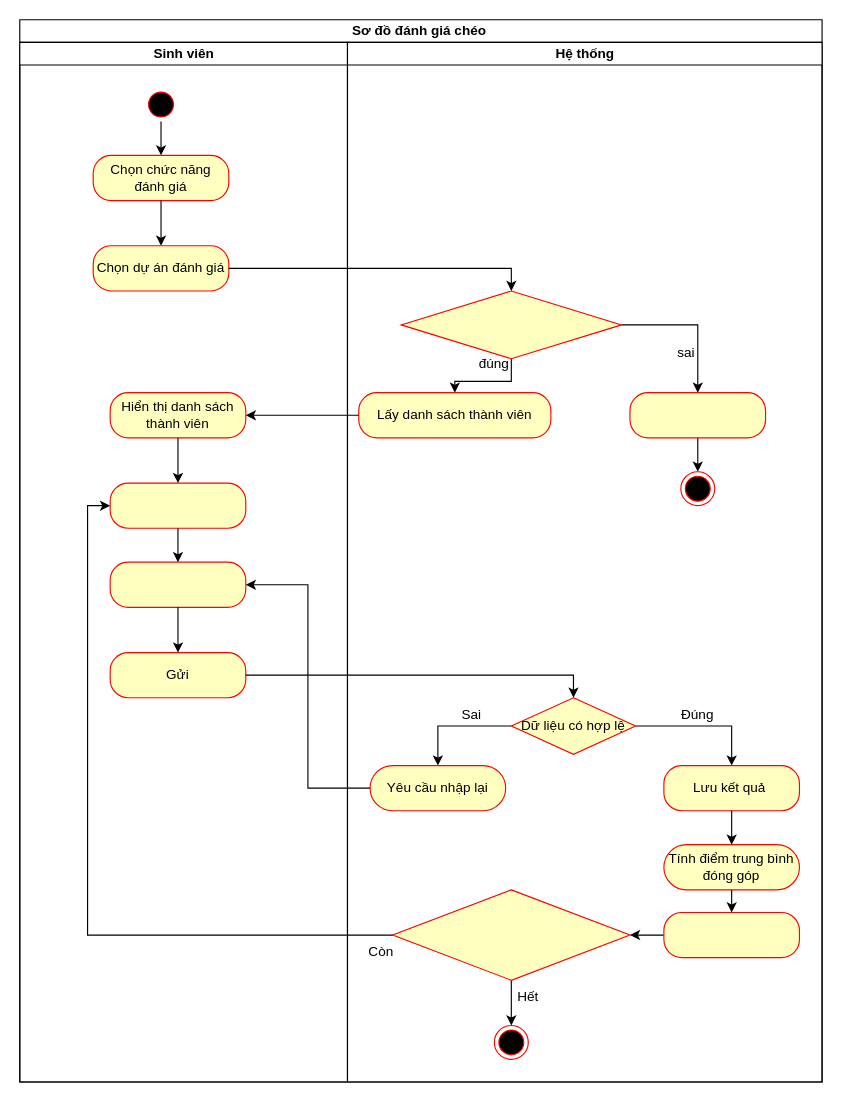
The diagram is 842 pixels wide and 1102 high, and some of its shapes have lost their labels. Each missing label, with the centre of its shape:
Chọn thành viên để chấm điểm: pixel 177 505
Còn thành viên chưa đánh giá ?: pixel 511 934
Hiển thị " đánh giá thành công": pixel 731 934
Nhập điểm số và đánh giá: pixel 177 584
Thông báo lỗi: pixel 697 415
Đã đến hạn và thuộc nhóm ?: pixel 510 324
